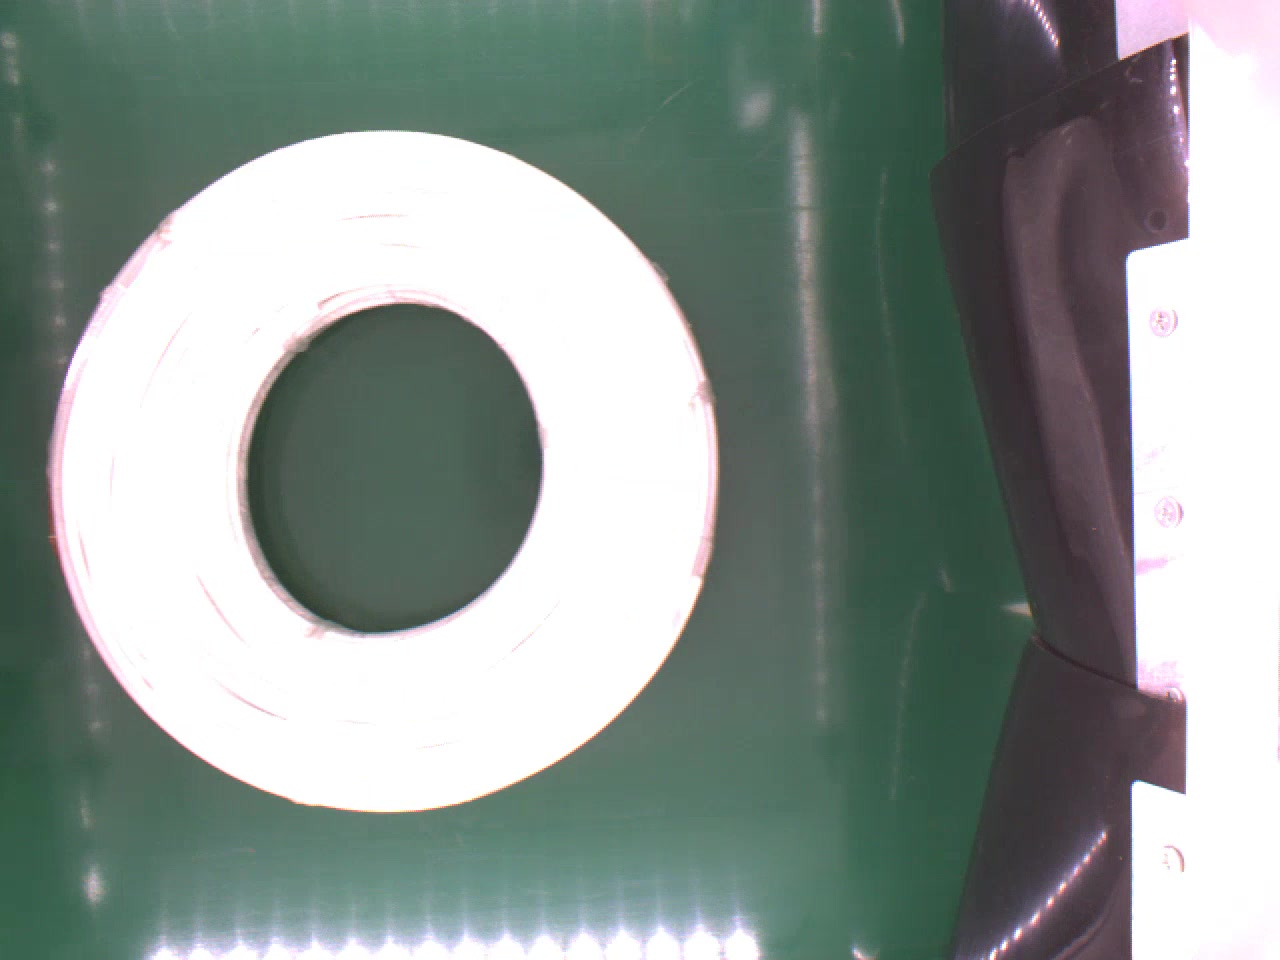white: (46, 130, 723, 816)
